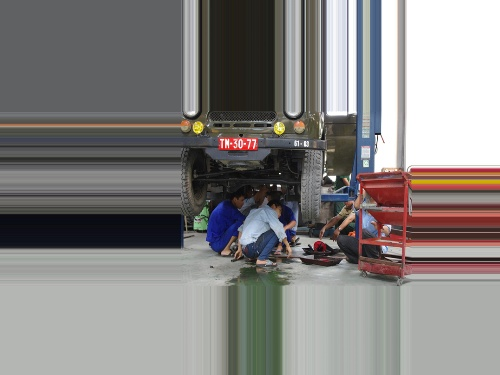plate: (218, 137, 259, 150)
